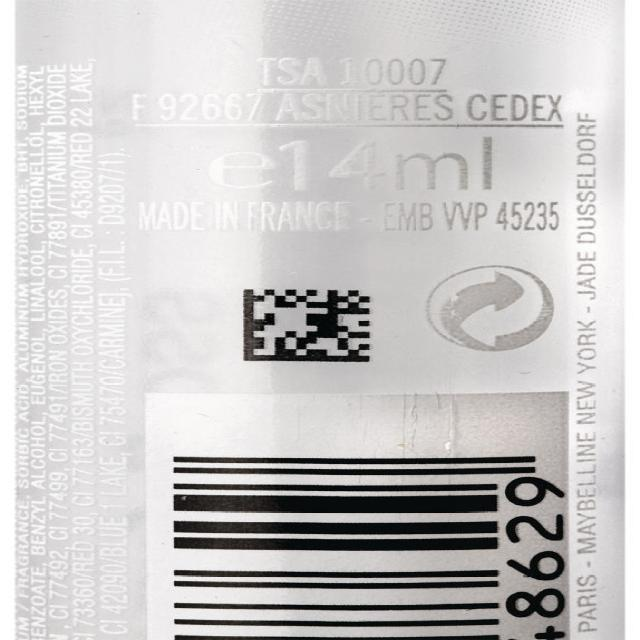datamatrix: (238, 284, 376, 363)
